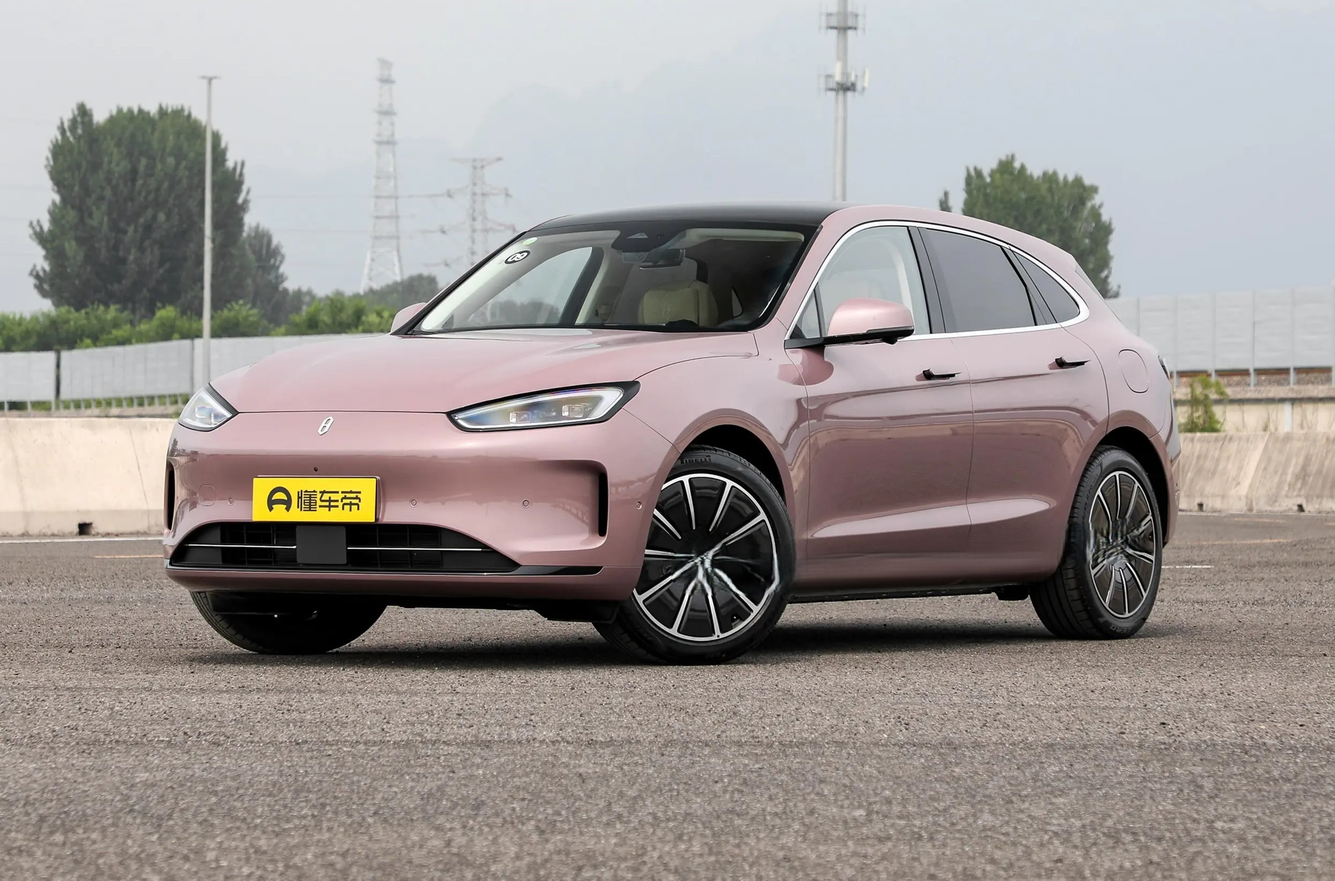AITO: (318, 417, 334, 435)
